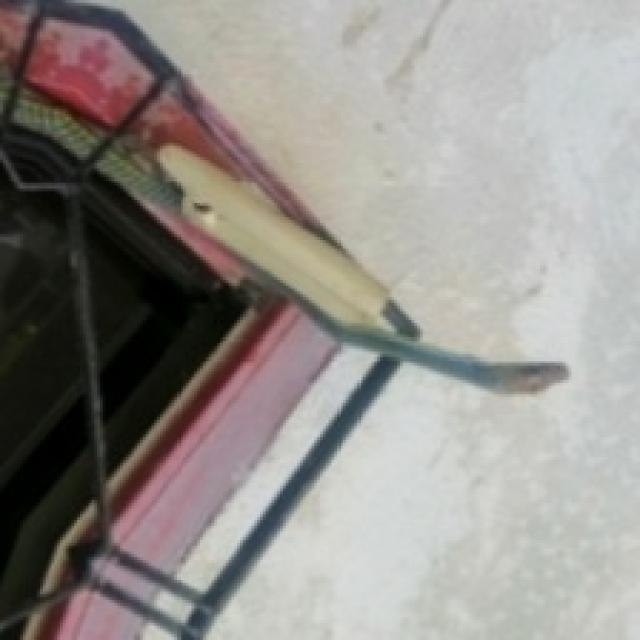paradise tree snake: (166, 0, 591, 357), (180, 357, 637, 637), (157, 143, 566, 391), (186, 351, 366, 577)
